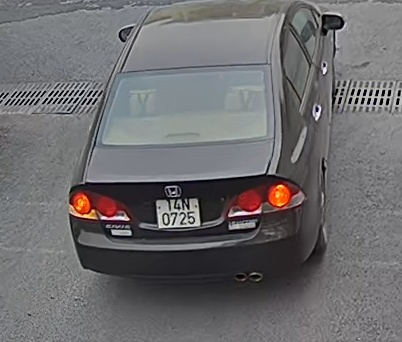vehicle plate: (153, 193, 201, 230)
